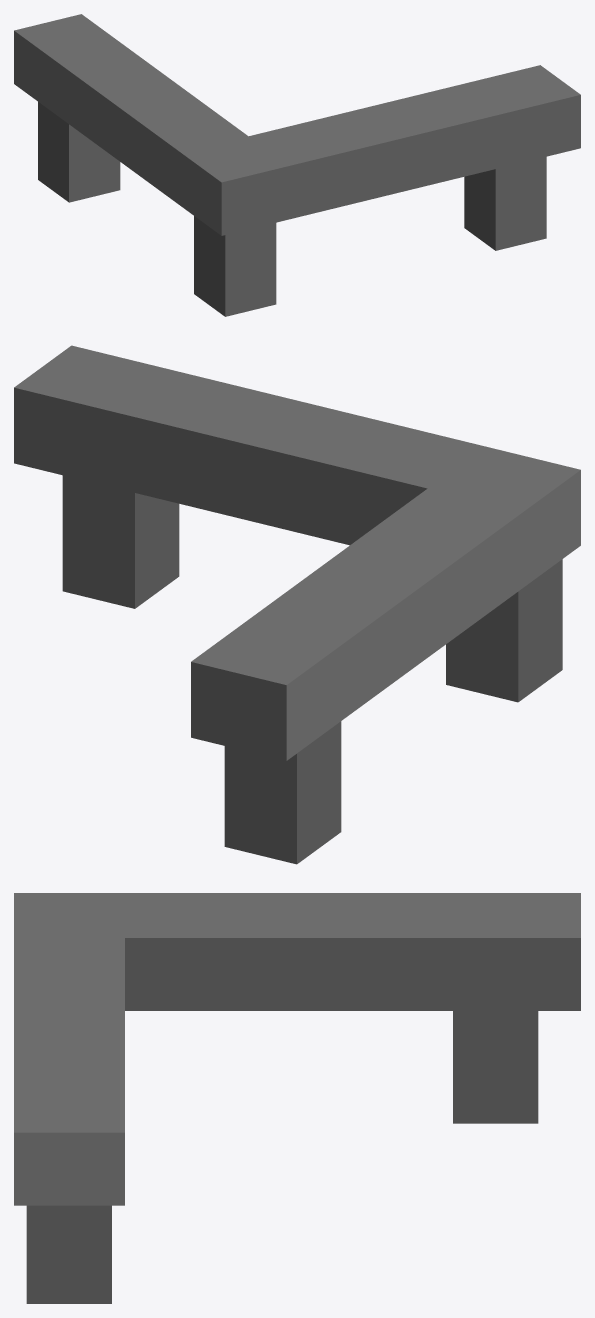
Rendered from fence_type_02.fbx.
3 views of the same model, one above another, from view 1: azimuth 30°, elevation 25°; view 2: azimuth 150°, elevation 25°; view 3: azimuth 270°, elevation 25° (orthographic). The views are drawn at different scales.
Parts seen in each view (by area): view 1: fence_type_02; view 2: fence_type_02; view 3: fence_type_02.
Part boxes in pixels (x1,y1,x2,y2): fence_type_02: (14, 14, 580, 316); fence_type_02: (14, 345, 580, 864); fence_type_02: (14, 893, 580, 1303).
Size of the model in its own units: 133 by 49.45 by 133.
